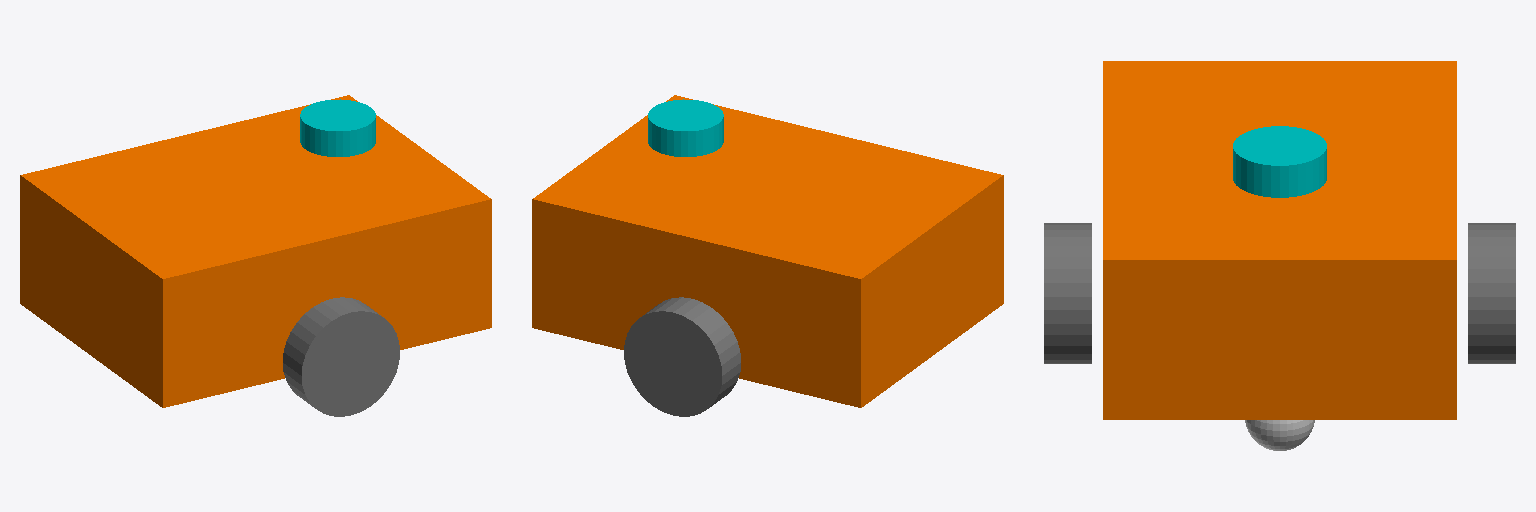
URDF robot description (my_diff_drive_robot):
<?xml version="1.0"?>
<robot name="my_diff_drive_robot">

  <!-- ===== 材质颜色 (亮色, RViz 深色背景下清晰可见) ===== -->
  <material name="orange">
    <color rgba="1.0 0.5 0.0 1.0"/>
  </material>
  <material name="dark_grey">
    <color rgba="0.5 0.5 0.5 1.0"/>
  </material>
  <material name="cyan">
    <color rgba="0.0 0.8 0.8 1.0"/>
  </material>
  <material name="light_grey">
    <color rgba="0.8 0.8 0.8 1.0"/>
  </material>

  <!-- ===== 底盘 (车体) ===== -->
  <link name="base_link">
    <visual>
      <geometry>
        <box size="0.4 0.3 0.15"/>
      </geometry>
      <material name="orange"/>
    </visual>
    <!-- 碰撞体积 (用于 Gazebo 物理) -->
    <collision>
      <geometry>
        <box size="0.4 0.3 0.15"/>
      </geometry>
    </collision>
    <inertial>
      <mass value="5.0"/>
      <inertia ixx="0.05" ixy="0.0" ixz="0.0" iyy="0.05" iyz="0.0" izz="0.08"/>
    </inertial>
  </link>

  <!-- ===== 左轮 ===== -->
  <joint name="left_wheel_joint" type="continuous">
    <parent link="base_link"/>
    <child link="left_wheel"/>
    <origin xyz="0.0 0.18 -0.05" rpy="0.0 0.0 0.0"/>
    <axis xyz="0.0 1.0 0.0"/>
  </joint>
  <link name="left_wheel">
    <visual>
      <origin rpy="1.5708 0.0 0.0"/>
      <geometry>
        <cylinder radius="0.06" length="0.04"/>
      </geometry>
      <material name="dark_grey"/>
    </visual>
    <collision>
      <origin rpy="1.5708 0.0 0.0"/>
      <geometry>
        <cylinder radius="0.06" length="0.04"/>
      </geometry>
    </collision>
    <inertial>
      <mass value="0.3"/>
      <inertia ixx="0.0003" ixy="0.0" ixz="0.0" iyy="0.0005" iyz="0.0" izz="0.0003"/>
    </inertial>
  </link>

  <!-- ===== 右轮 ===== -->
  <joint name="right_wheel_joint" type="continuous">
    <parent link="base_link"/>
    <child link="right_wheel"/>
    <origin xyz="0.0 -0.18 -0.05" rpy="0.0 0.0 0.0"/>
    <axis xyz="0.0 1.0 0.0"/>
  </joint>
  <link name="right_wheel">
    <visual>
      <origin rpy="1.5708 0.0 0.0"/>
      <geometry>
        <cylinder radius="0.06" length="0.04"/>
      </geometry>
      <material name="dark_grey"/>
    </visual>
    <collision>
      <origin rpy="1.5708 0.0 0.0"/>
      <geometry>
        <cylinder radius="0.06" length="0.04"/>
      </geometry>
    </collision>
    <inertial>
      <mass value="0.3"/>
      <inertia ixx="0.0003" ixy="0.0" ixz="0.0" iyy="0.0005" iyz="0.0" izz="0.0003"/>
    </inertial>
  </link>

  <!-- ===== 万向轮 (前方支撑) ===== -->
  <joint name="caster_joint" type="fixed">
    <parent link="base_link"/>
    <child link="caster_wheel"/>
    <origin xyz="0.16 0.0 -0.09" rpy="0.0 0.0 0.0"/>
  </joint>
  <link name="caster_wheel">
    <visual>
      <geometry>
        <sphere radius="0.03"/>
      </geometry>
      <material name="light_grey"/>
    </visual>
    <collision>
      <geometry>
        <sphere radius="0.03"/>
      </geometry>
    </collision>
    <inertial>
      <mass value="0.05"/>
      <inertia ixx="0.00001" ixy="0.0" ixz="0.0" iyy="0.00001" iyz="0.0" izz="0.00001"/>
    </inertial>
  </link>

  <!-- ===== 激光雷达 ===== -->
  <joint name="lidar_joint" type="fixed">
    <parent link="base_link"/>
    <child link="lidar_link"/>
    <origin xyz="0.1 0.0 0.12" rpy="0.0 0.0 0.0"/>
  </joint>
  <link name="lidar_link">
    <visual>
      <geometry>
        <cylinder radius="0.04" length="0.03"/>
      </geometry>
      <material name="cyan"/>
    </visual>
    <collision>
      <geometry>
        <cylinder radius="0.04" length="0.03"/>
      </geometry>
    </collision>
    <inertial>
      <mass value="0.2"/>
      <inertia ixx="0.0001" ixy="0.0" ixz="0.0" iyy="0.0001" iyz="0.0" izz="0.0001"/>
    </inertial>
  </link>

  <!-- ============================================ -->
  <!--  Gazebo 插件配置                              -->
  <!-- ============================================ -->

  <!-- 差速驱动插件: 根据 /cmd_vel 控制左右轮, 发布 /odom -->
  <gazebo>
    <plugin name="diff_drive" filename="libgazebo_ros_diff_drive.so">
      <!-- 关节名 -->
      <left_joint>left_wheel_joint</left_joint>
      <right_joint>right_wheel_joint</right_joint>

      <!-- 轮距 (左右轮 y 间距) 和 轮径 -->
      <wheel_separation>0.36</wheel_separation>
      <wheel_diameter>0.12</wheel_diameter>

      <!-- 动力限制 -->
      <max_wheel_torque>20.0</max_wheel_torque>
      <max_wheel_acceleration>1.0</max_wheel_acceleration>

      <!-- 话题与坐标系 -->
      <command_topic>cmd_vel</command_topic>
      <odometry_topic>odom</odometry_topic>
      <odometry_frame>odom</odometry_frame>
      <robot_base_frame>base_link</robot_base_frame>

      <!-- 自动发布 odom→base_link 的 TF -->
      <publish_odom>true</publish_odom>
      <publish_tf>true</publish_tf>
      <publish_wheel_tf>false</publish_wheel_tf>

      <update_rate>50.0</update_rate>
    </plugin>
  </gazebo>

  <!-- 万向轮: 降低摩擦，模拟自由滚动 -->
  <gazebo reference="caster_wheel">
    <mu1>0.01</mu1>
    <mu2>0.01</mu2>
    <kp>1000000.0</kp>
    <kd>1.0</kd>
  </gazebo>

</robot>

--- Render facts (derived) ---
3 views of the same robot in one strip: view 1: azimuth 30°, elevation 25°; view 2: azimuth 150°, elevation 25°; view 3: azimuth 270°, elevation 25° (orthographic).
Model my_diff_drive_robot with 5 links and 4 joints (2 continuous, 2 fixed), rooted at base_link, posed every joint at zero.
Visible links, largest first — view 1: base_link, right_wheel, lidar_link; view 2: base_link, left_wheel, lidar_link; view 3: base_link, left_wheel, right_wheel, lidar_link, caster_wheel.
Link boxes in pixels (x1=…): base_link: x1=20, y1=95, x2=491, y2=407; right_wheel: x1=283, y1=297, x2=399, y2=416; lidar_link: x1=300, y1=99, x2=375, y2=156; base_link: x1=532, y1=95, x2=1003, y2=407; left_wheel: x1=624, y1=297, x2=740, y2=416; lidar_link: x1=648, y1=99, x2=723, y2=156; base_link: x1=1103, y1=61, x2=1456, y2=419; left_wheel: x1=1468, y1=223, x2=1515, y2=363; right_wheel: x1=1044, y1=223, x2=1091, y2=363; lidar_link: x1=1233, y1=126, x2=1326, y2=197; caster_wheel: x1=1245, y1=420, x2=1314, y2=450.
Size in the robot's own frame: 0.4 by 0.4 by 0.255 metres.
Geometry: primitives only (box / cylinder / sphere), no mesh files.
